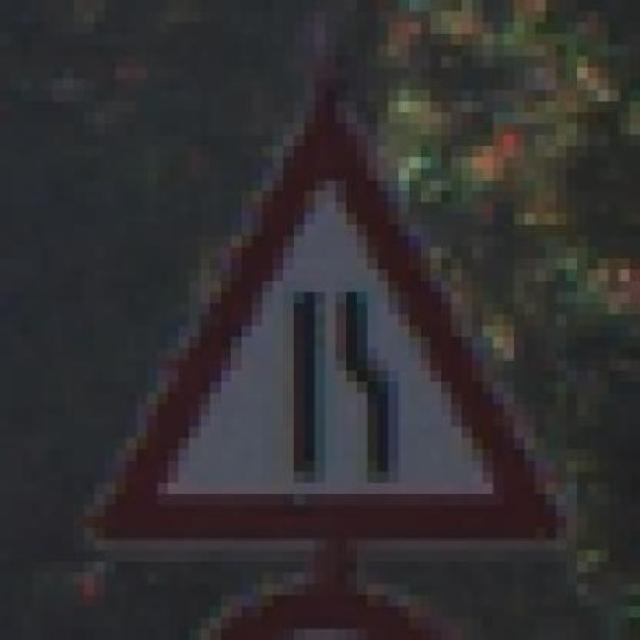-Road narrows on right: (73, 79, 578, 562)
